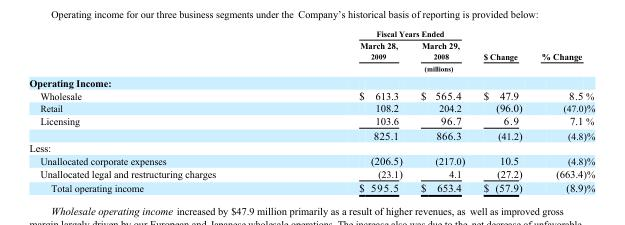table: (28, 28, 594, 193)
table column: (28, 28, 286, 193), (286, 28, 410, 193), (410, 28, 473, 193), (531, 28, 594, 193), (473, 28, 531, 193)
table column header: (28, 28, 594, 74)
table projected row header: (28, 74, 594, 88), (28, 141, 594, 153)
table row: (28, 38, 594, 62), (28, 74, 594, 88), (28, 127, 594, 141), (28, 166, 594, 180), (28, 88, 594, 101), (28, 101, 594, 114), (28, 114, 594, 127), (28, 153, 594, 166), (28, 180, 594, 193), (28, 62, 594, 74), (28, 141, 594, 153), (28, 28, 594, 38)
table spanning cell: (286, 62, 531, 74), (531, 28, 594, 74), (473, 28, 531, 62), (286, 28, 473, 38)
